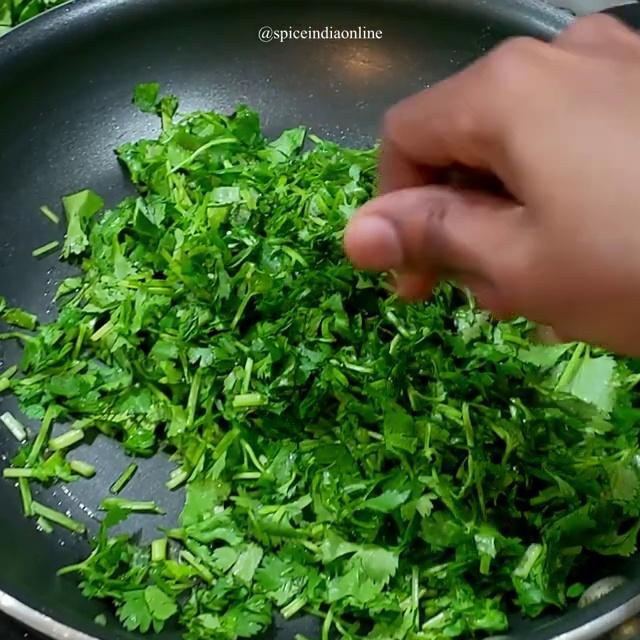cilantro: (104, 143, 371, 605)
